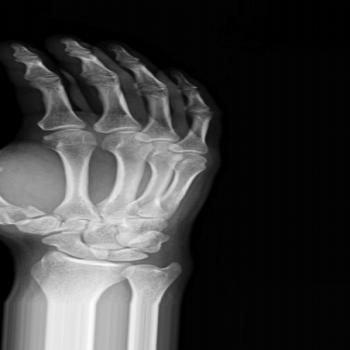Fracture: (11, 201, 51, 224)
